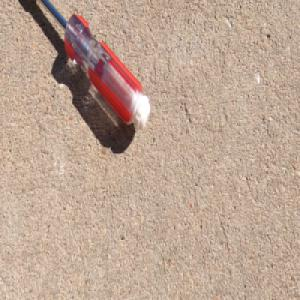Screwdriver: (34, 0, 152, 132)
